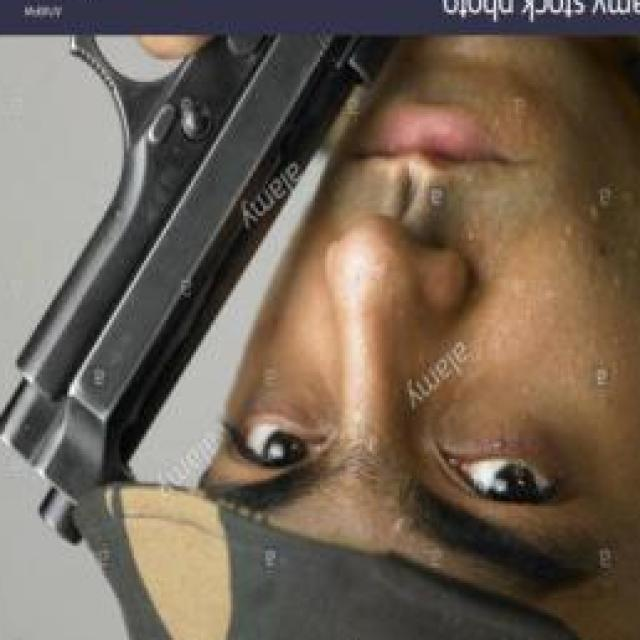pistol: (0, 35, 405, 536)
